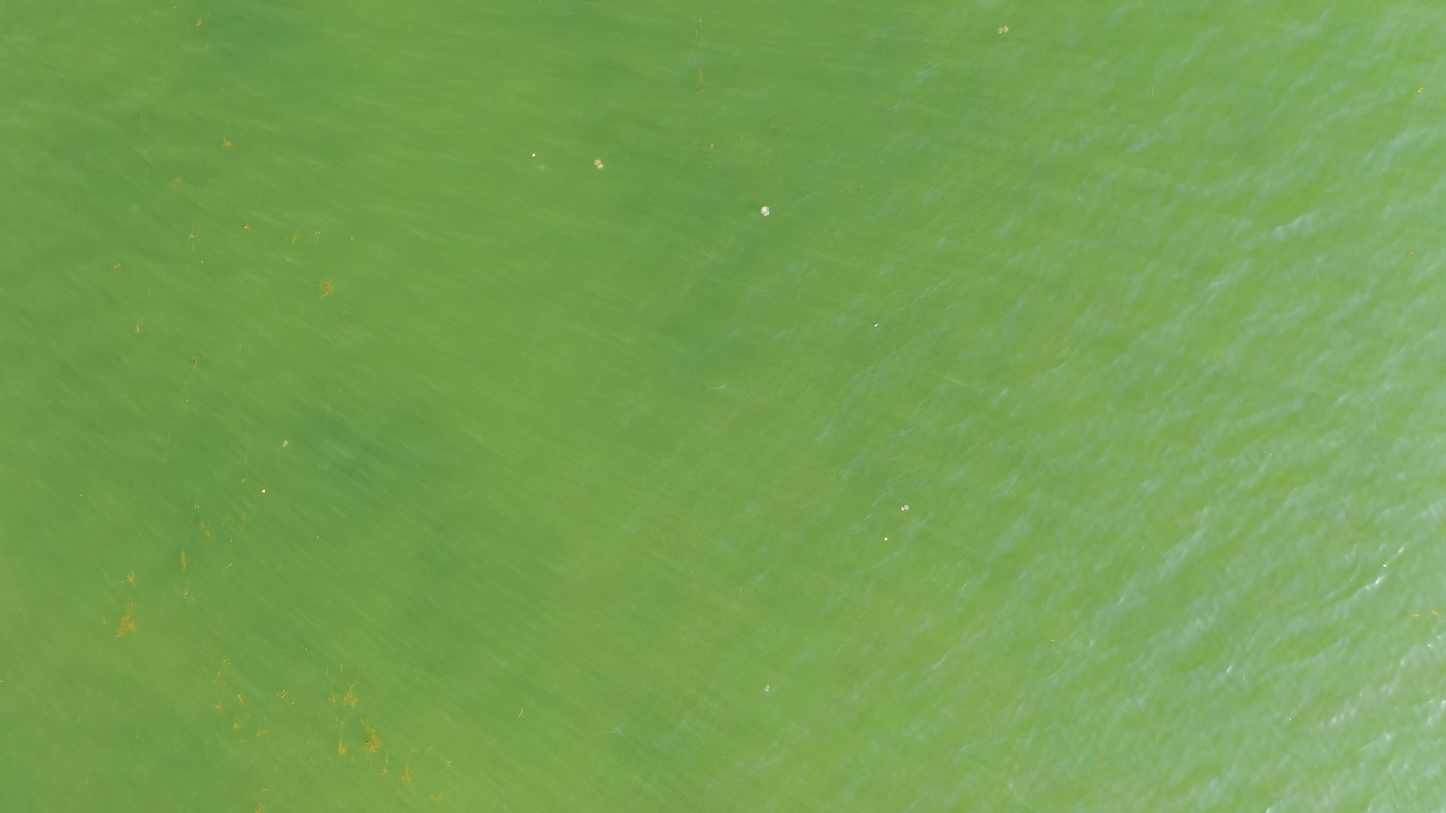meduse: (760, 207, 770, 218), (998, 25, 1008, 34), (594, 160, 603, 169), (901, 505, 909, 512), (764, 685, 771, 692), (282, 441, 288, 447)
